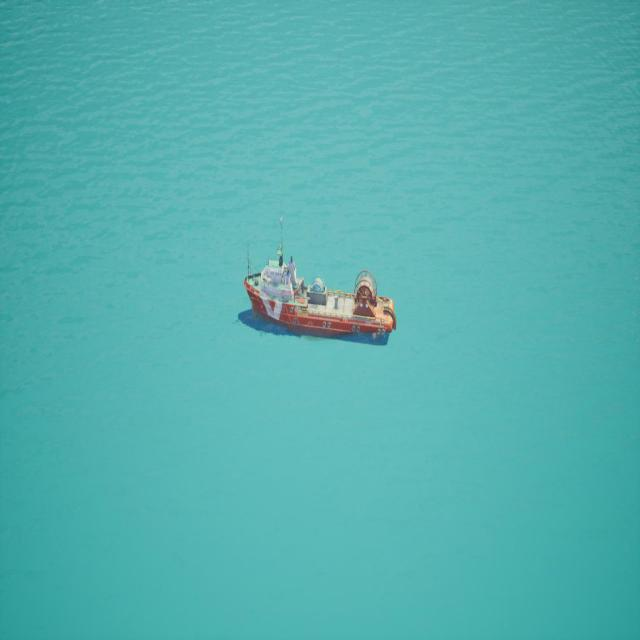tug boat: (250, 195, 416, 422)
